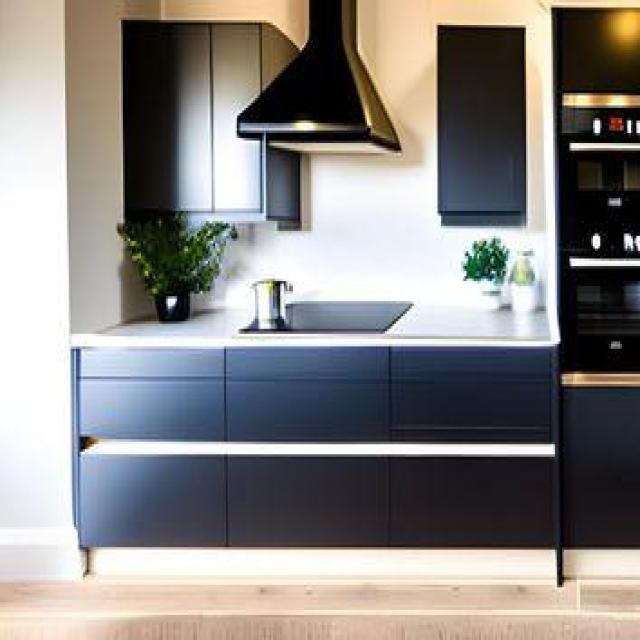Wall: (0, 1, 308, 579), (194, 0, 550, 308), (359, 1, 551, 233), (0, 578, 640, 639)
